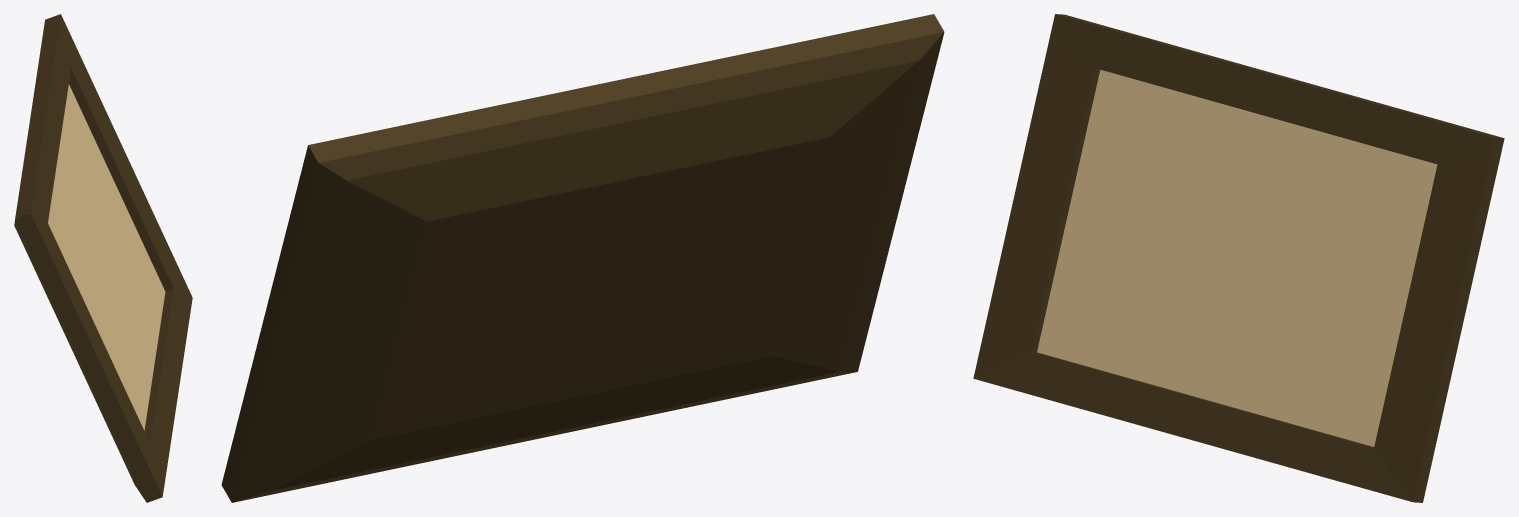
The model's file is PhotoFrame.fbx.
3 views of the same model, side by side, from view 1: azimuth 30°, elevation 25°; view 2: azimuth 150°, elevation 25°; view 3: azimuth 270°, elevation 25° (orthographic). The views are drawn at different scales.
Visible parts, largest first — view 1: PhotoFrame; view 2: PhotoFrame; view 3: PhotoFrame.
Part boxes in pixels (box(x1,y1,x2,y2)): PhotoFrame: box(14, 14, 192, 502); PhotoFrame: box(221, 14, 944, 502); PhotoFrame: box(973, 14, 1504, 502).
Bounding box in the file's own units: 31.09 × 25.49 × 38.4.
